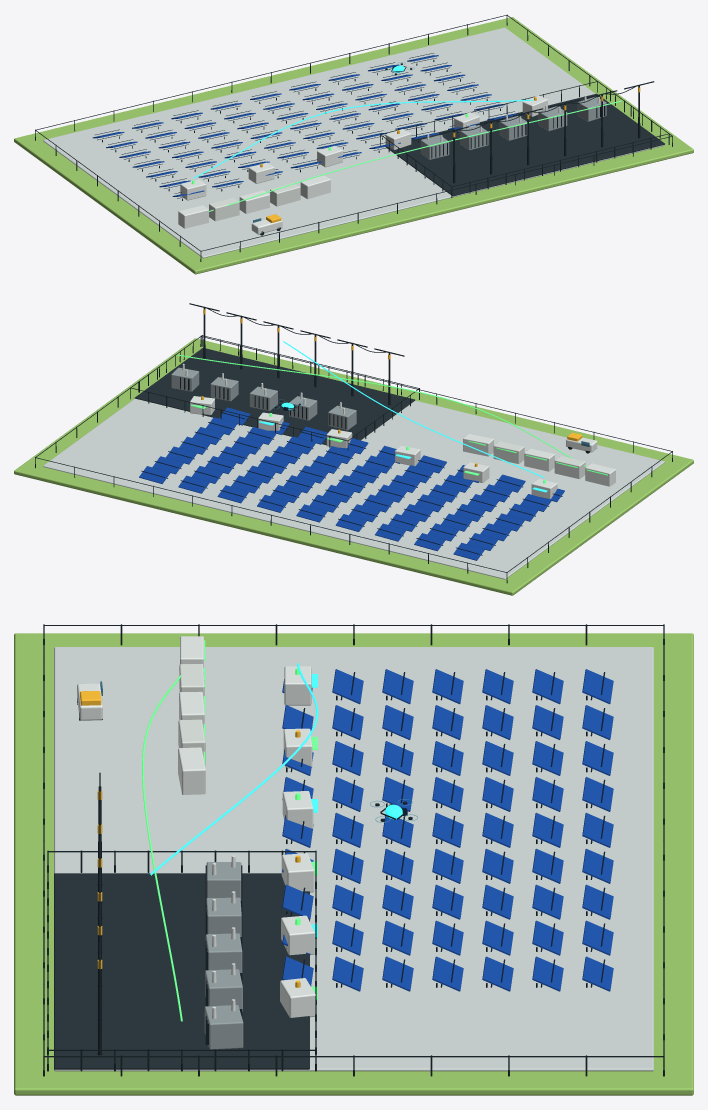
The model's file is rj3-final-solar-grid-package.glb.
3 views of the same model, one above another, from view 1: azimuth 30°, elevation 25°; view 2: azimuth 150°, elevation 25°; view 3: azimuth 270°, elevation 25° (orthographic). The views are drawn at different scales.
Visible parts, largest first — view 1: solar grid central service slab, solar grid landscaped base, substation gravel containment slab, green recovery energy flow arc, cyan AI dispatch arc from inverters to substation, solar package perimeter fence south top rail, solar package perimeter fence north top rail, battery container 1, battery container 5, battery container 2, battery container 4, ribbed transformer tank 2 (+9 smaller); view 2: solar grid central service slab, solar grid landscaped base, substation gravel containment slab, green recovery energy flow arc, solar package perimeter fence north top rail, solar package perimeter fence south top rail, battery container 2, ribbed transformer tank 4, battery container 4, ribbed transformer tank 1, battery container 3, ribbed transformer tank 3 (+5 smaller); view 3: solar grid central service slab, solar grid landscaped base, substation gravel containment slab, ribbed transformer tank 5, ribbed transformer tank 4, battery container 5, ribbed transformer tank 1, ribbed transformer tank 3, solar package perimeter fence east top rail, ribbed transformer tank 2, solar inverter skid 6, solar inverter skid 5 (+64 smaller).
Part boxes in pixels (box(x1,y1,x2,y2)): solar grid central service slab: box(43, 27, 664, 258); solar grid landscaped base: box(14, 17, 693, 274); substation gravel containment slab: box(385, 93, 664, 196); green recovery energy flow arc: box(209, 100, 621, 211); cyan AI dispatch arc from inverters to substation: box(193, 99, 533, 178); solar package perimeter fence south top rail: box(201, 136, 672, 251); solar package perimeter fence north top rail: box(36, 15, 506, 130); battery container 1: box(178, 205, 208, 228); battery container 5: box(300, 175, 330, 199); battery container 2: box(209, 198, 239, 221); battery container 4: box(270, 182, 300, 206); ribbed transformer tank 2: box(460, 125, 488, 150); solar grid central service slab: box(43, 398, 664, 579); solar grid landscaped base: box(14, 338, 693, 595); substation gravel containment slab: box(134, 348, 415, 445); green recovery energy flow arc: box(177, 354, 586, 466); solar package perimeter fence north top rail: box(35, 457, 506, 572); solar package perimeter fence south top rail: box(201, 336, 671, 451); battery container 2: box(554, 456, 585, 479); ribbed transformer tank 4: box(210, 377, 238, 401); battery container 4: box(493, 441, 524, 463); ribbed transformer tank 1: box(328, 405, 356, 430); battery container 3: box(524, 448, 554, 471); ribbed transformer tank 3: box(249, 386, 277, 411); solar grid central service slab: box(54, 647, 653, 1071); solar grid landscaped base: box(14, 633, 693, 1095); substation gravel containment slab: box(54, 873, 309, 1069); ribbed transformer tank 5: box(204, 1005, 243, 1049); ribbed transformer tank 4: box(205, 969, 242, 1011); battery container 5: box(178, 747, 205, 794); ribbed transformer tank 1: box(206, 862, 241, 900); ribbed transformer tank 3: box(205, 933, 242, 972); solar package perimeter fence east top rail: box(44, 1056, 663, 1057); ribbed transformer tank 2: box(206, 897, 241, 936); solar inverter skid 6: box(280, 978, 315, 1017); solar inverter skid 5: box(281, 915, 314, 955).
Bounding box in the file's own units: 54 × 6.2 × 34.
